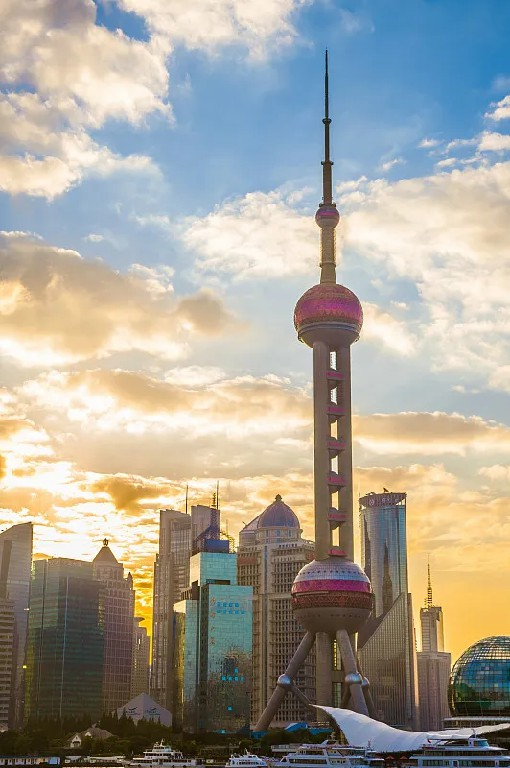Oriental: (251, 46, 376, 737)
